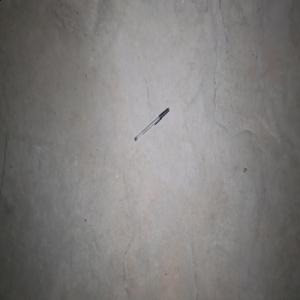Pen: (134, 107, 169, 141)
